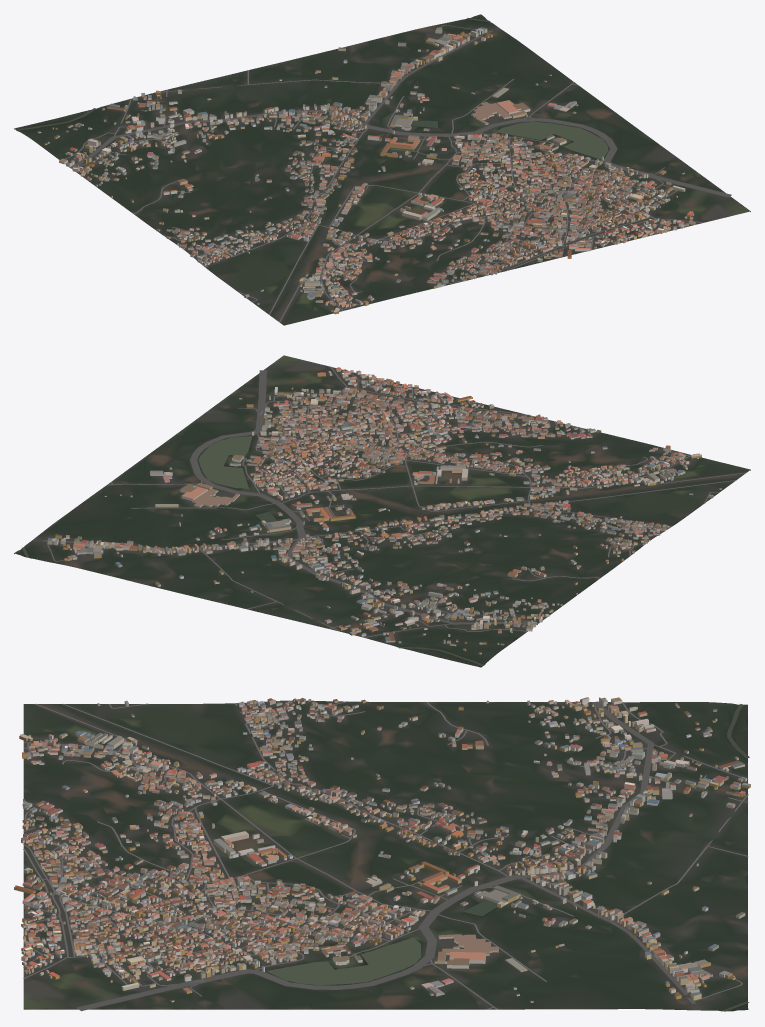
3 renders of one model, top to bottom at view 1: azimuth 30°, elevation 25°; view 2: azimuth 150°, elevation 25°; view 3: azimuth 270°, elevation 25°, orthographic. The views are drawn at different scales.
Visible parts, largest first — view 1: ground, buildings, roads, water; view 2: ground, buildings, roads, water; view 3: ground, buildings, roads, water.
Part boxes in pixels (left/top/right/bottom): ground: left=14, top=14, right=750, bottom=325; buildings: left=37, top=27, right=695, bottom=314; roads: left=65, top=25, right=731, bottom=322; water: left=16, top=18, right=608, bottom=159; ground: left=14, top=355, right=750, bottom=667; buildings: left=48, top=367, right=721, bottom=654; roads: left=43, top=366, right=746, bottom=637; water: left=22, top=436, right=484, bottom=665; ground: left=23, top=700, right=748, bottom=1011; buildings: left=14, top=697, right=750, bottom=1002; roads: left=23, top=701, right=748, bottom=1011; water: left=267, top=704, right=749, bottom=1011.
Bounding box in the file's own units: 1418 × 26.37 × 1426.
